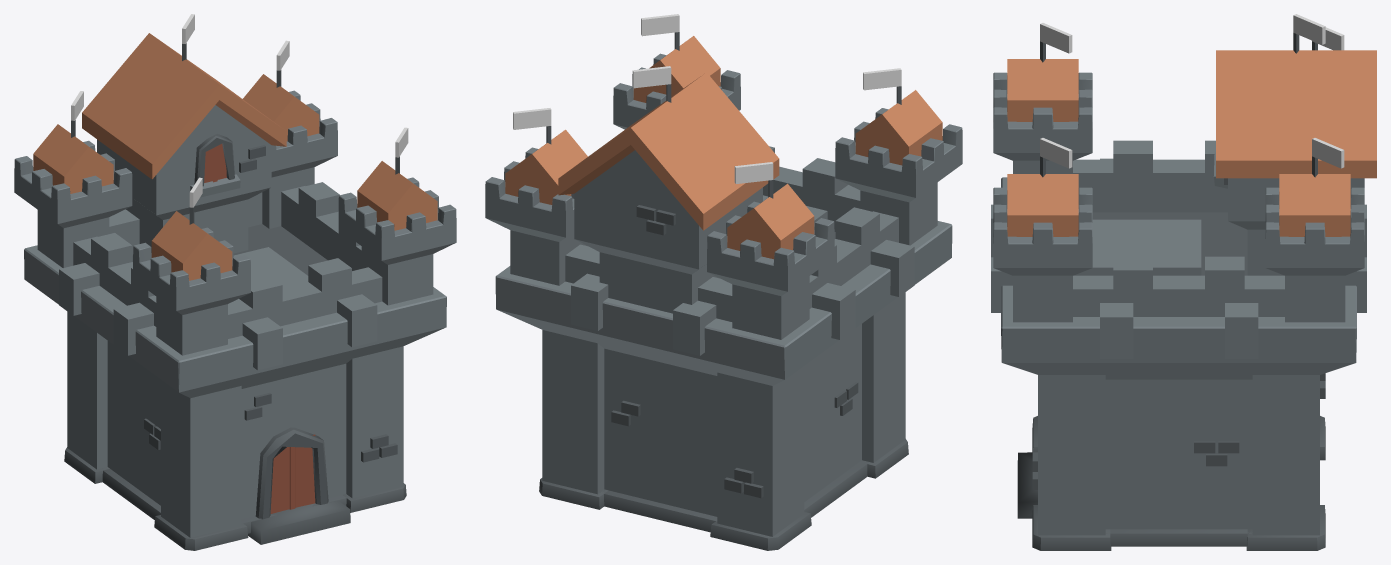
File: castle.glb
3 views of the same model, side by side, from view 1: azimuth 30°, elevation 25°; view 2: azimuth 150°, elevation 25°; view 3: azimuth 270°, elevation 25° (orthographic). The views are drawn at different scales.
Parts seen in each view (by area): view 1: castle; view 2: castle; view 3: castle.
Boxes of the visible parts, x1,y1,x2,y2 form: castle: (14, 14, 456, 550); castle: (485, 14, 962, 550); castle: (991, 14, 1376, 550).
Size of the model in its own units: 7.22 by 10.13 by 7.41.
